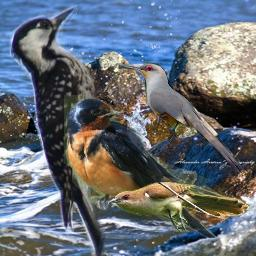Cuckoo: (119, 62, 249, 176), (108, 182, 250, 232)
Swallow: (64, 95, 253, 238)
Woodpecker: (8, 3, 142, 256)
